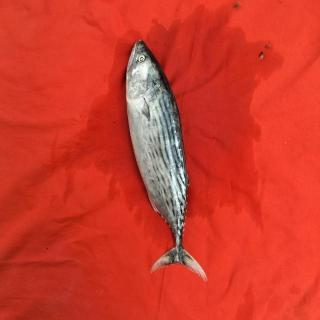Ikan: (119, 37, 215, 278)
